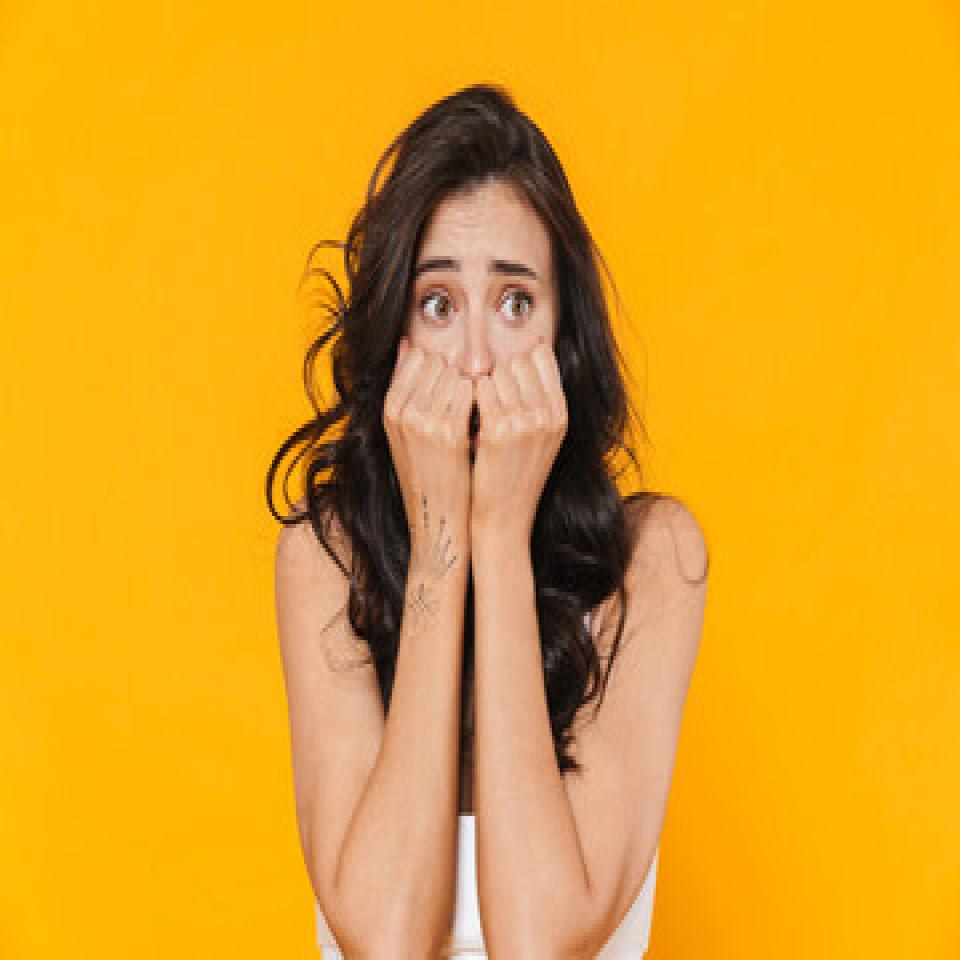Scared: (381, 202, 565, 532)
